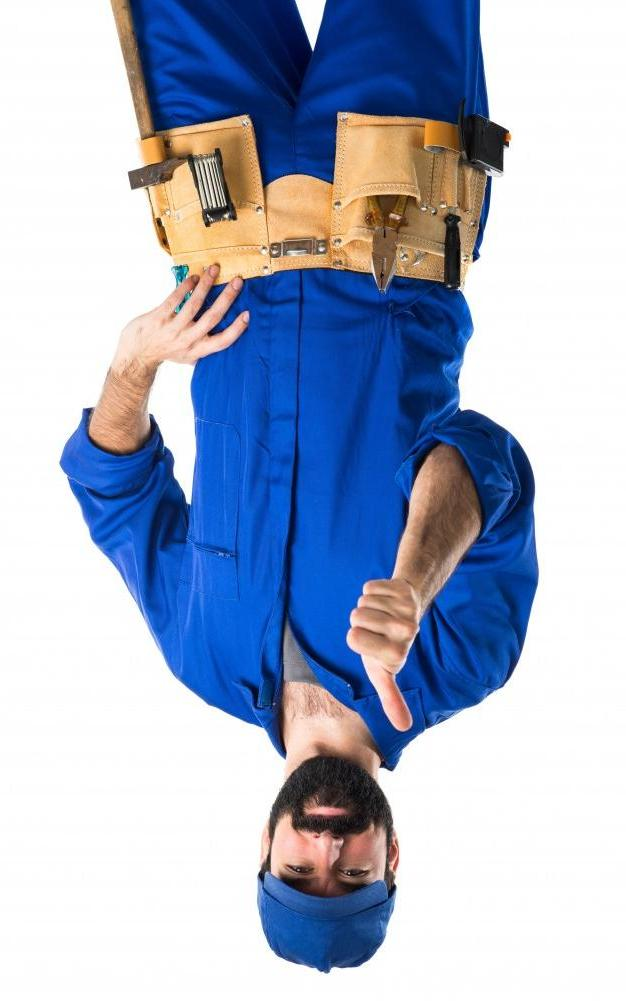thumbsdown: (345, 580, 421, 732)
